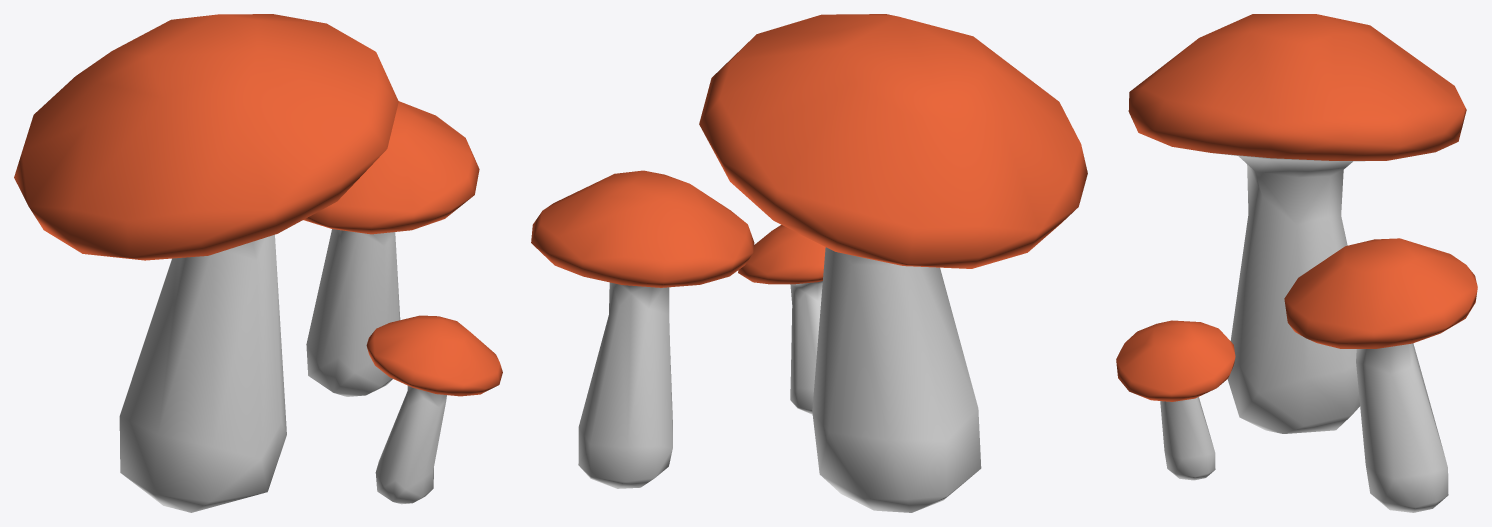
File: shrooms.fbx
3 views of the same model, side by side, from view 1: azimuth 30°, elevation 25°; view 2: azimuth 150°, elevation 25°; view 3: azimuth 270°, elevation 25° (orthographic). The views are drawn at different scales.
Parts seen in each view (by area): view 1: Cube.002; view 2: Cube.002; view 3: Cube.002.
Part boxes in pixels (<box>): Cube.002: <box>14,14,502,512</box>; Cube.002: <box>531,14,1087,512</box>; Cube.002: <box>1116,14,1477,512</box>.
Bounding box in the file's own units: 248 × 232 × 190.
